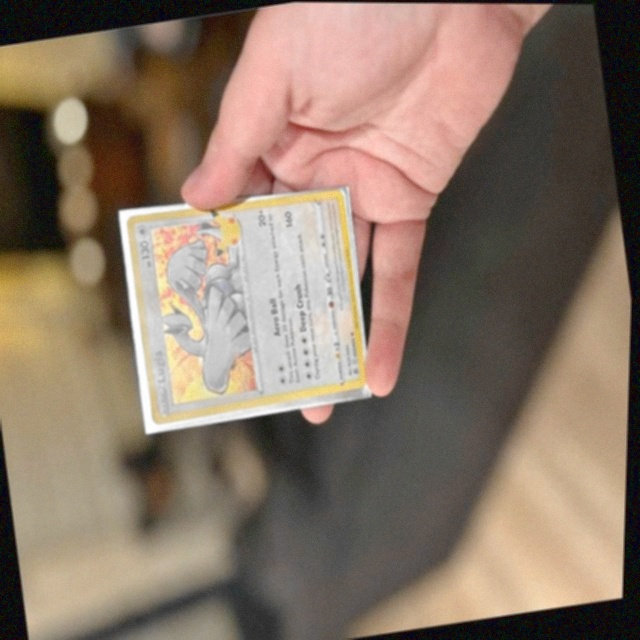card: (126, 188, 368, 427)
